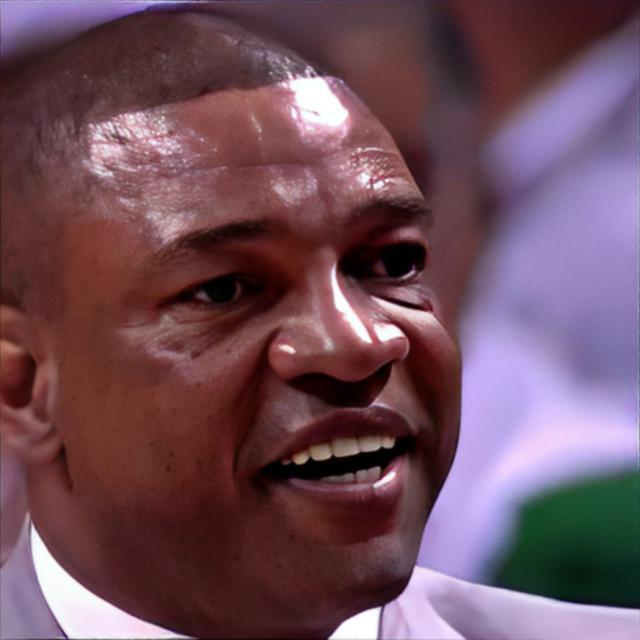anger: (61, 63, 467, 612)
